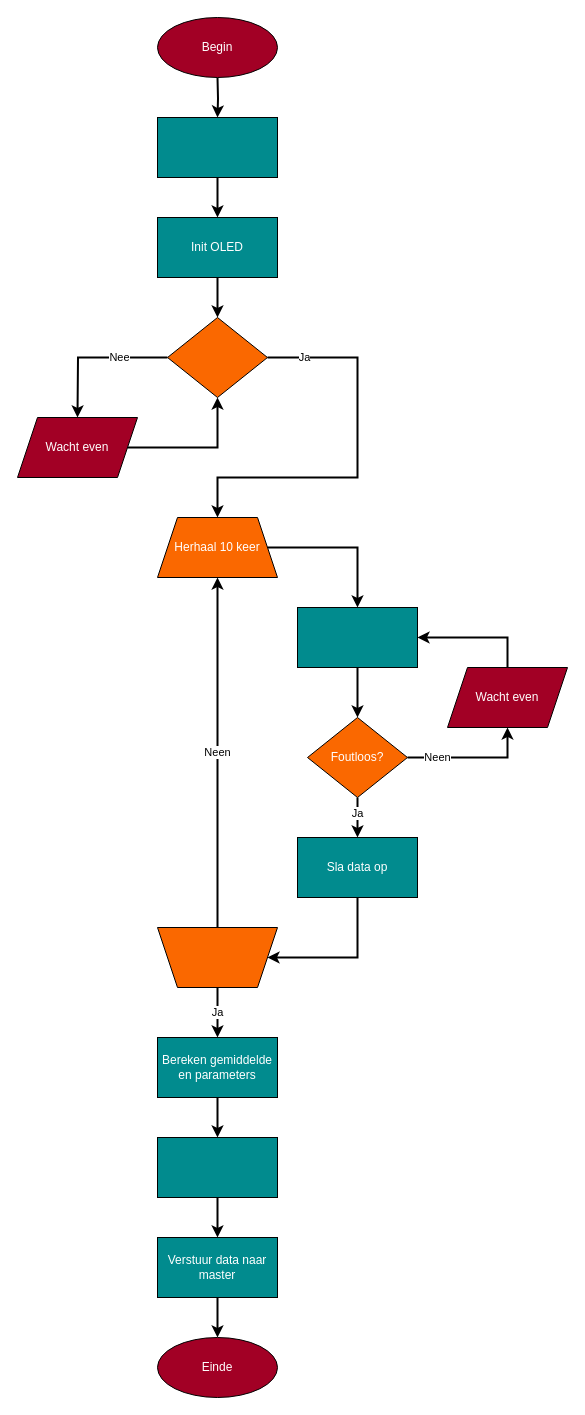
The diagram is 585 pixels wide and 1415 high, and some of its shapes have lost their labels. Here are the shapes that lost their labels. From the top down, the box of each, then its label:
(156, 116, 278, 178): Init sensor
(166, 316, 268, 398): Data verzoek?
(296, 606, 418, 668): Lees sensor data
(156, 926, 278, 988): 10 keer herhaald?
(156, 1136, 278, 1198): Update OLED
